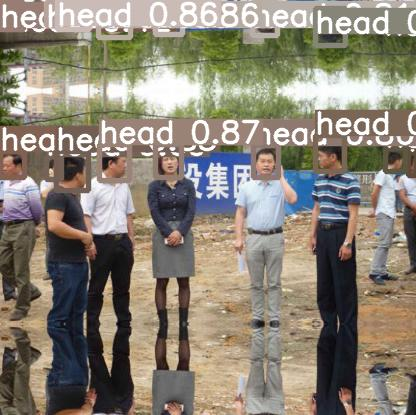head: (56, 151, 88, 190), (98, 1, 130, 37), (315, 8, 345, 45), (99, 144, 129, 180), (315, 135, 344, 171), (57, 0, 89, 29), (155, 2, 182, 34), (155, 144, 181, 177), (252, 1, 277, 35), (253, 145, 278, 177), (0, 151, 24, 177), (0, 2, 23, 29), (384, 10, 406, 33), (385, 148, 405, 171), (46, 156, 61, 179), (46, 2, 61, 25), (10, 6, 25, 28), (408, 4, 416, 28), (408, 152, 416, 175)
